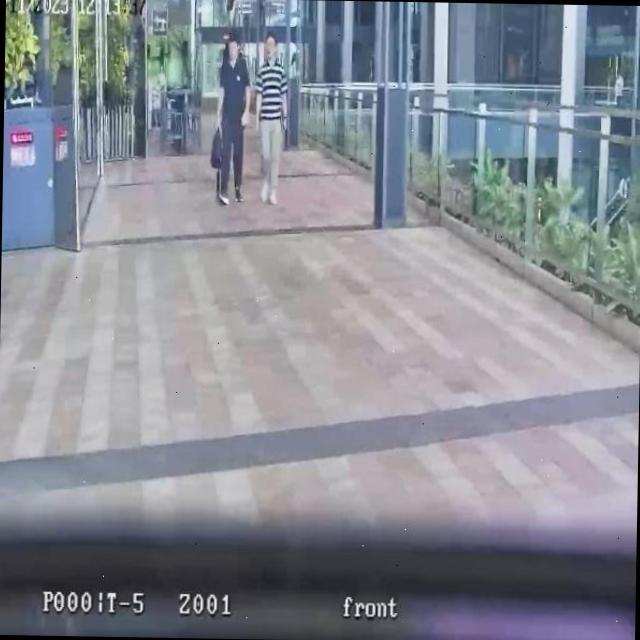person: (250, 31, 289, 208), (214, 27, 252, 206)
